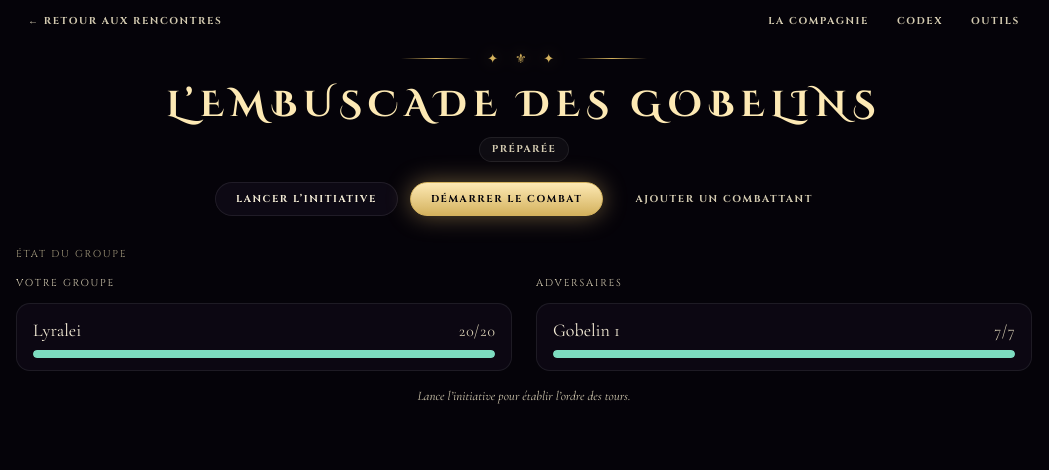
Test case: <EncounterScreen> — état planned (MJ) › erreur « une autre rencontre active » → message dédié
Click the button "Démarrer le combat": coordinates (507, 198) [410,182,603,216]
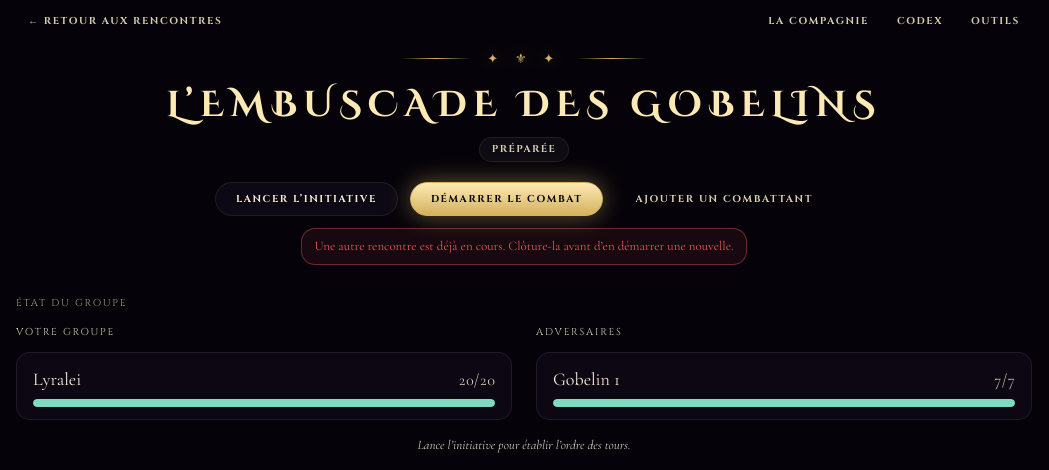
Expected: the text "Une autre rencontre est déjà en cours" is shown, [314,238,734,254]
